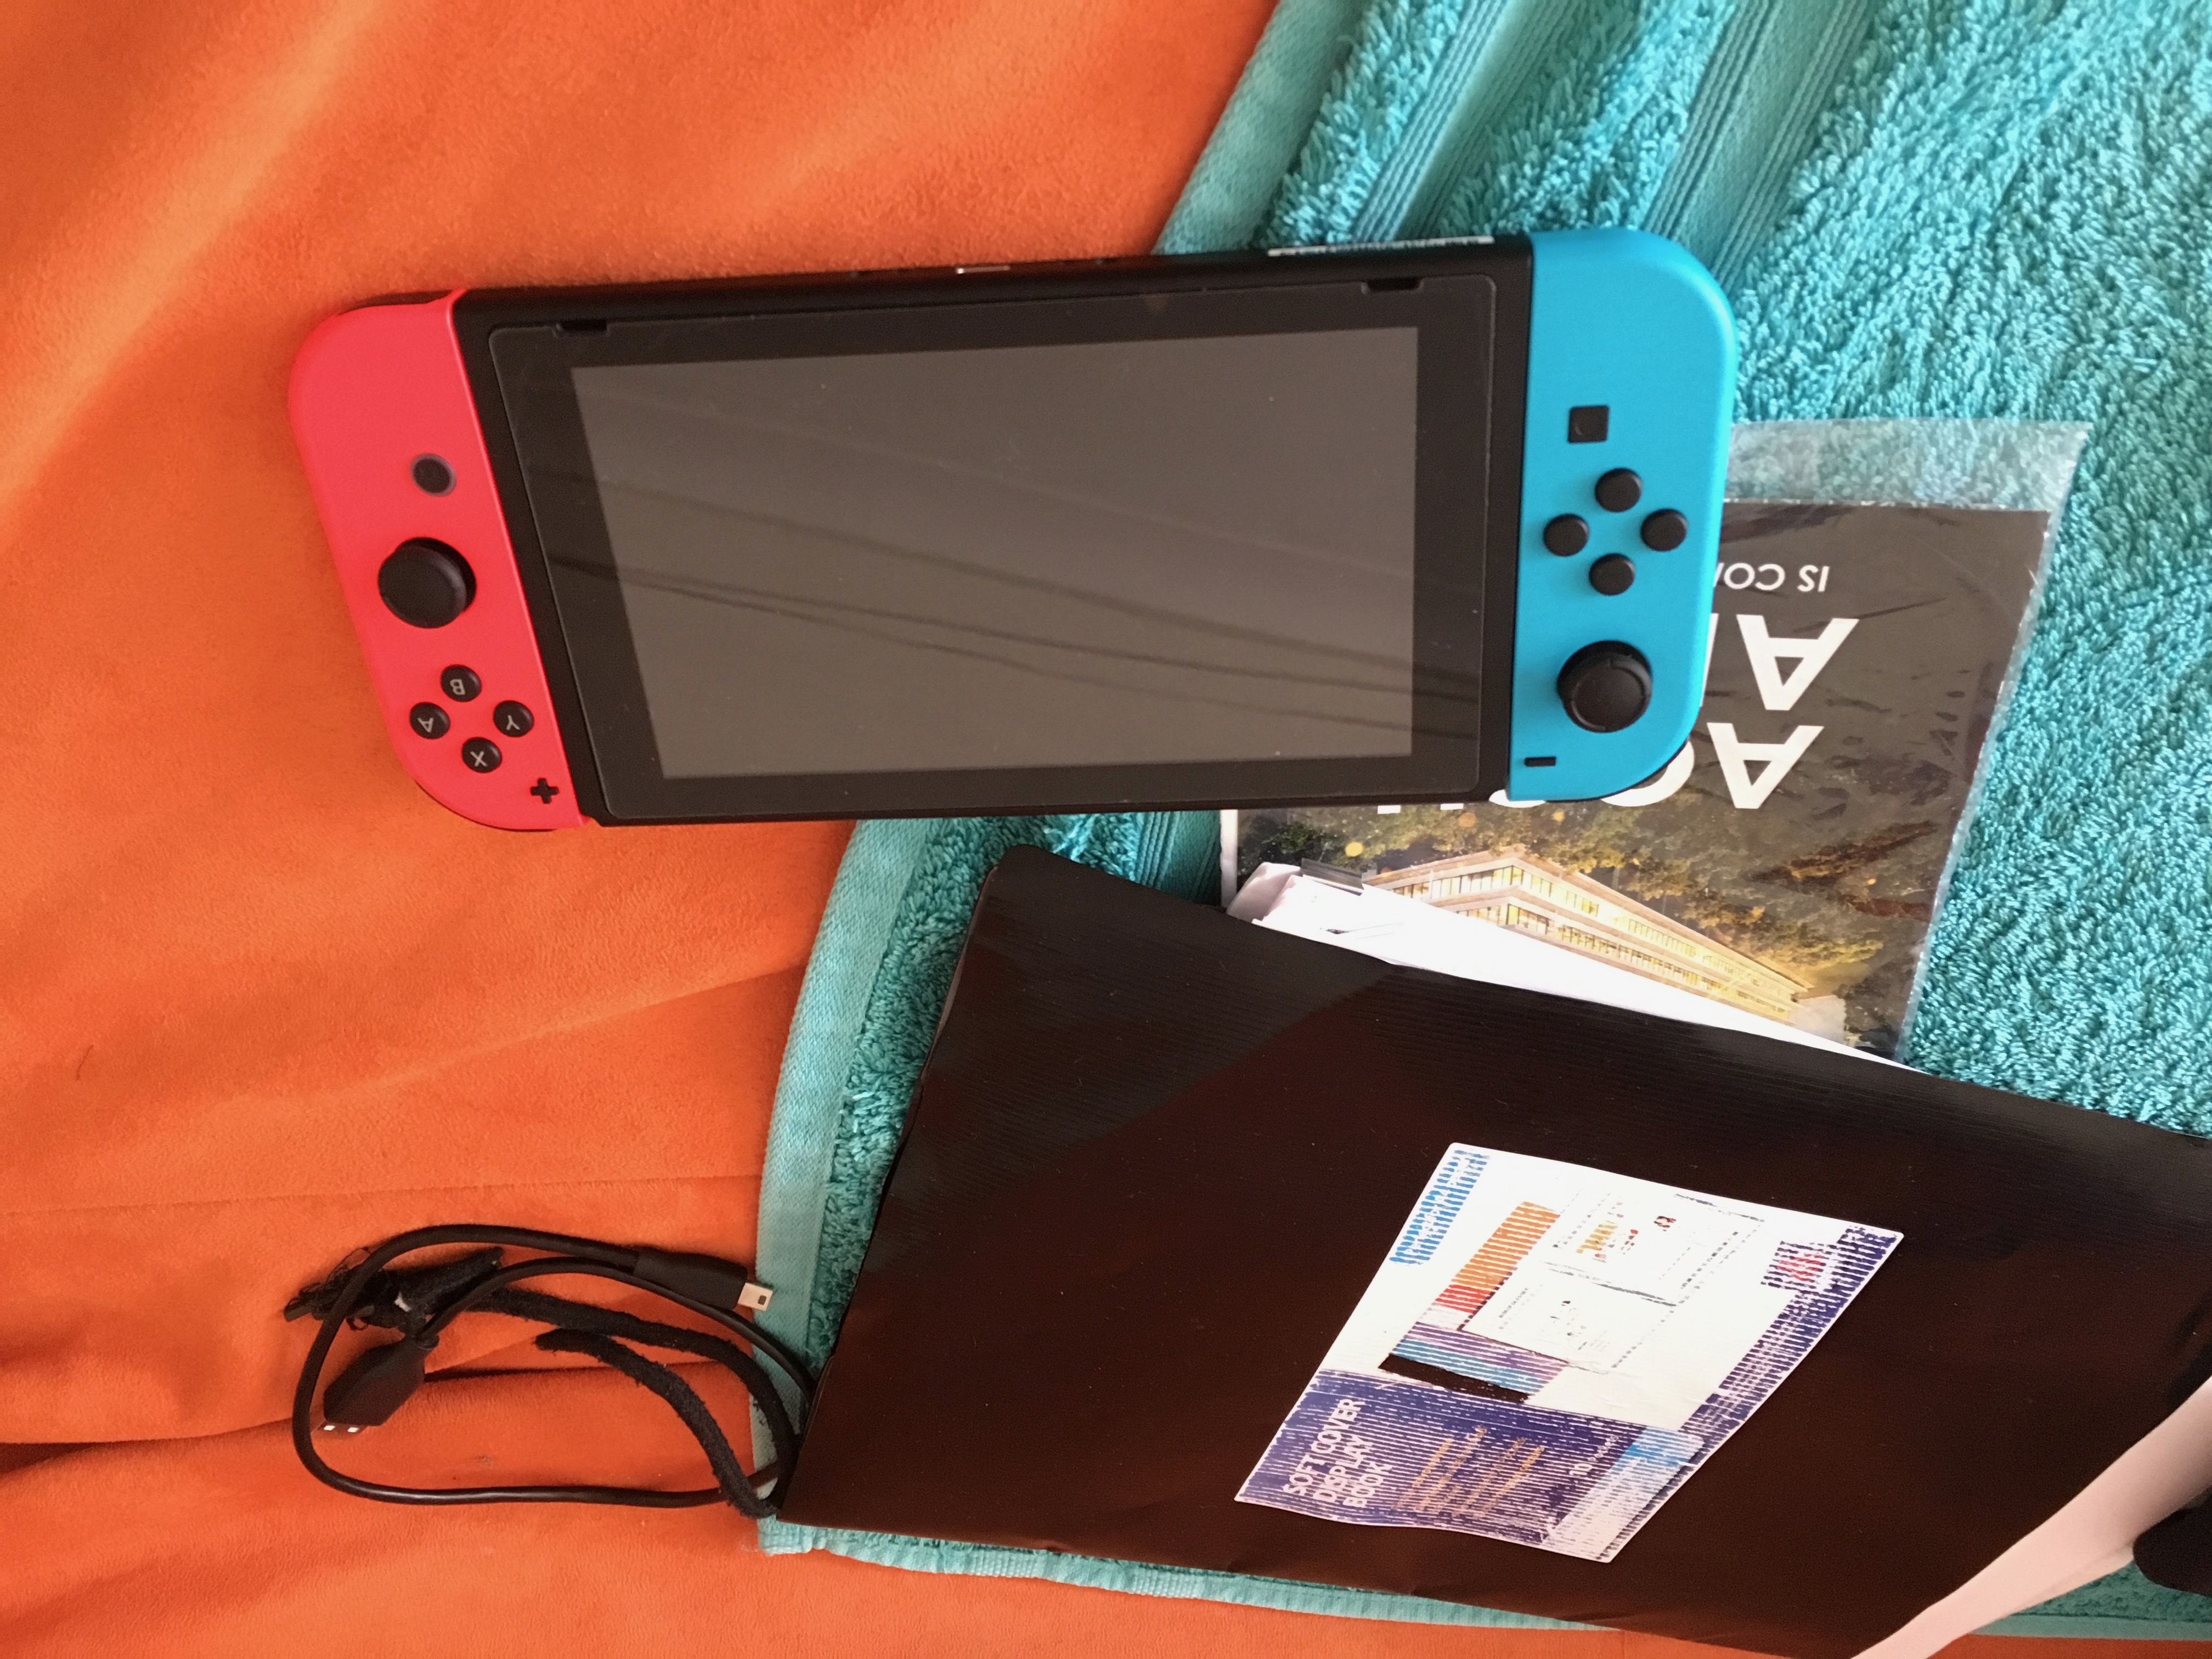NintendoSwitch: (266, 218, 1759, 857)
